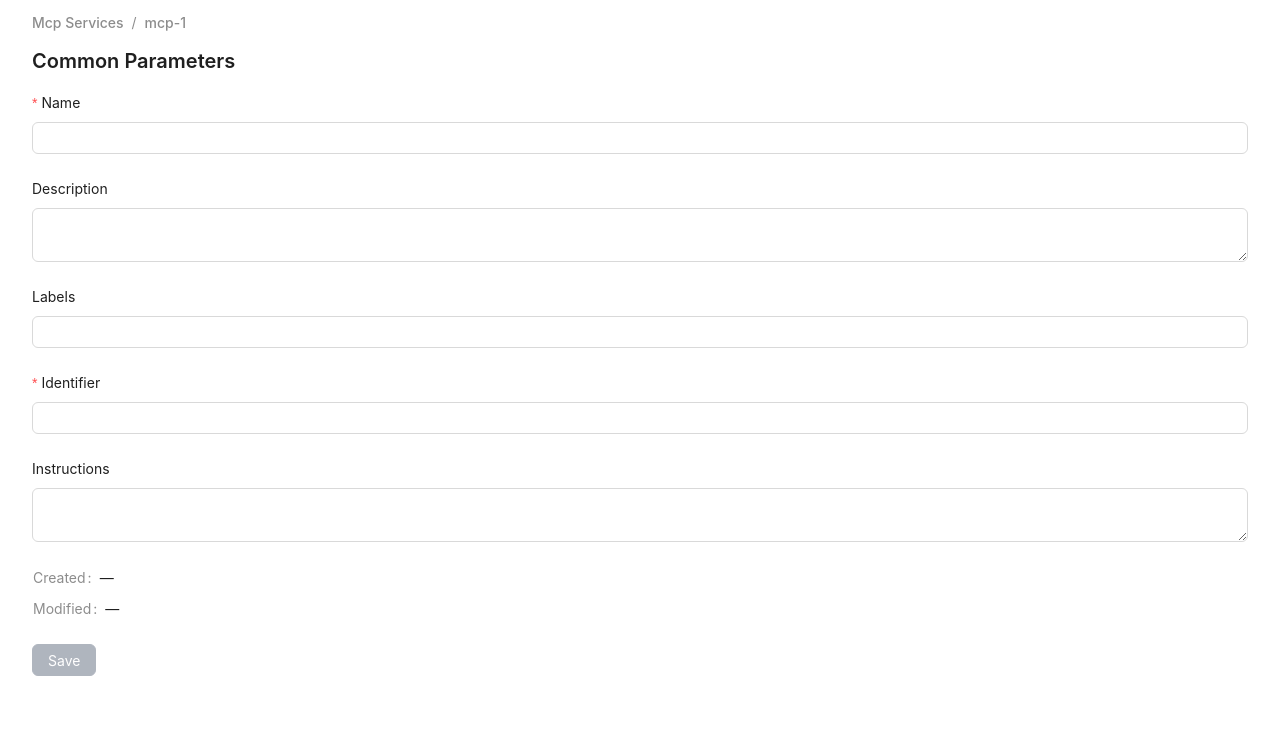
McpServiceParametersPage › should show a validation error when Name is empty on submit
Check: the field labelled "Identifier" is shown, box [32, 402, 1248, 434]
Note: Enable Save by triggering onChange via the Description field
In the text box labelled "Description": coordinates (640, 235) [32, 208, 1248, 262], type "trigger"
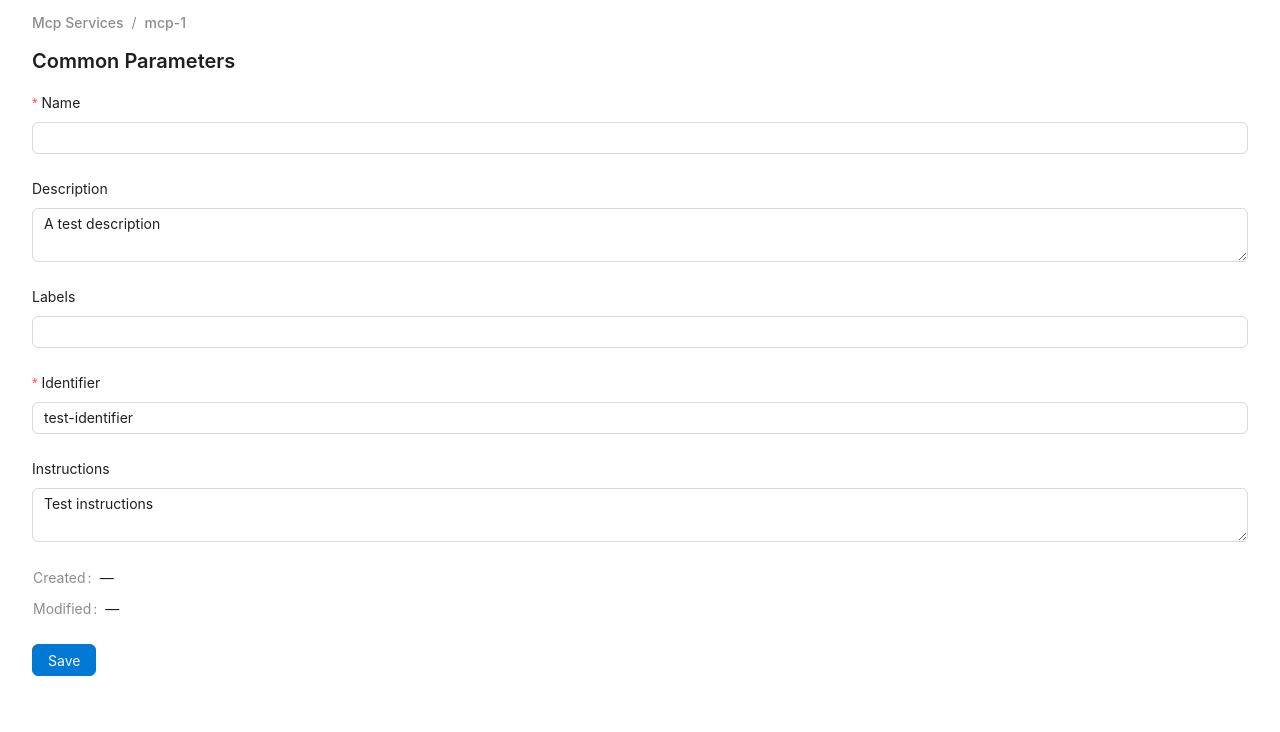
Click the button "Save": coordinates (64, 660) [32, 644, 96, 676]
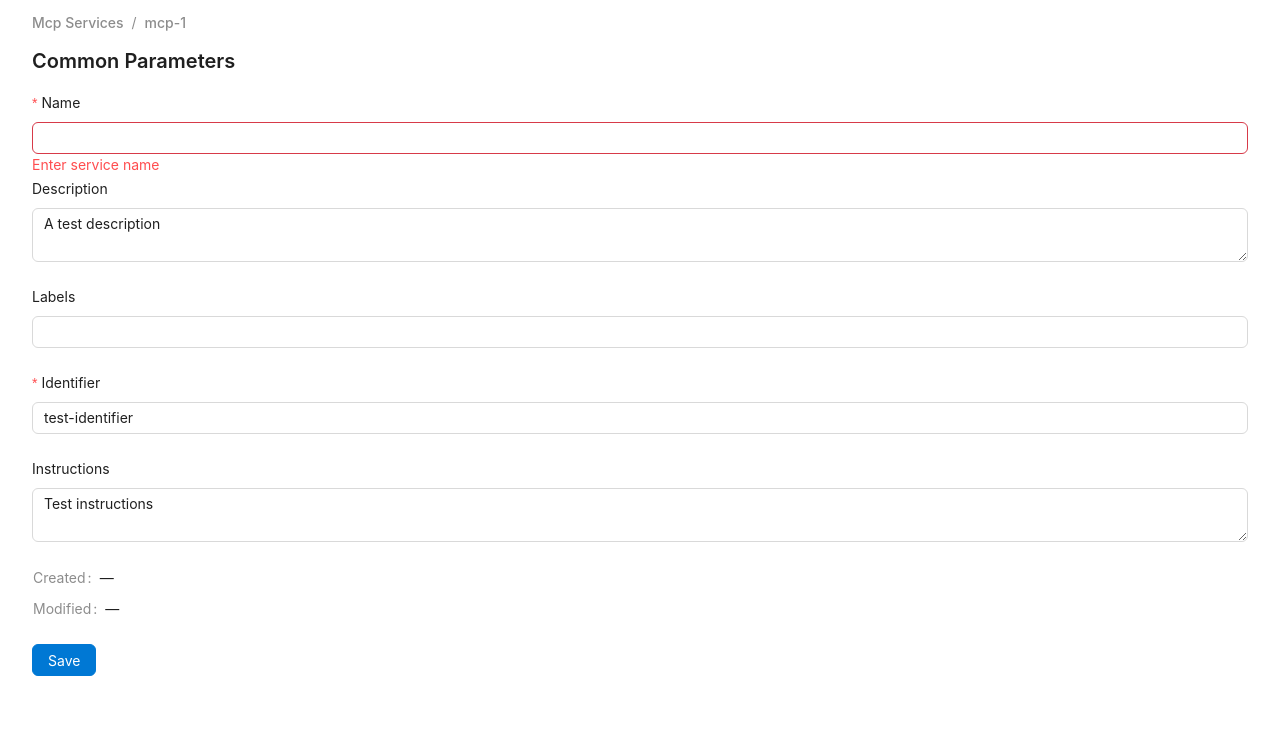
Check: the text "Enter service name" is shown, box [32, 156, 160, 173]
